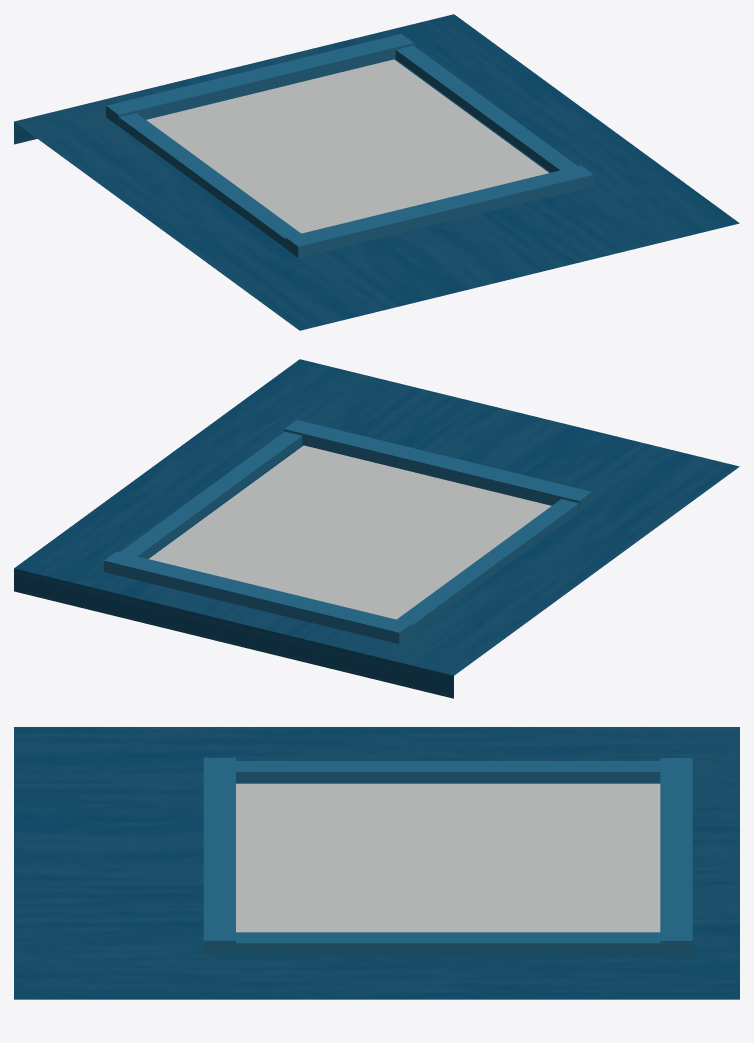
Rendered from RealRoomInsideWindowWall_WorkingRoom.fbx.
3 views of the same model, one above another, from view 1: azimuth 30°, elevation 25°; view 2: azimuth 150°, elevation 25°; view 3: azimuth 270°, elevation 25° (orthographic). The views are drawn at different scales.
Visible parts, largest first — view 1: Wall_Window.084; view 2: Wall_Window.084; view 3: Wall_Window.084.
Boxes of the visible parts, x1,y1,x2,y2 form: Wall_Window.084: [14, 14, 739, 330]; Wall_Window.084: [14, 359, 739, 698]; Wall_Window.084: [14, 727, 739, 999].
Bounding box in the file's own units: 2 × 0.1502 × 2.25.
